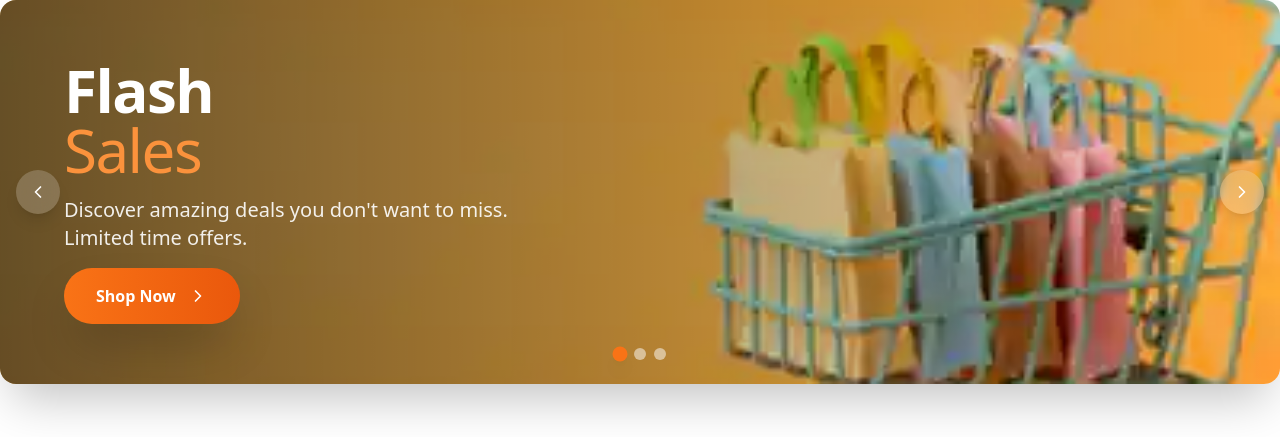
Test: ProductCarousel › navigates to specific image when dot is clicked
Note: click on the third dot
What coordinates should you click on to do the following:
click the button named "Go to slide 3"
I would click on:
 (660, 354)
Its box is [654,348,666,360].
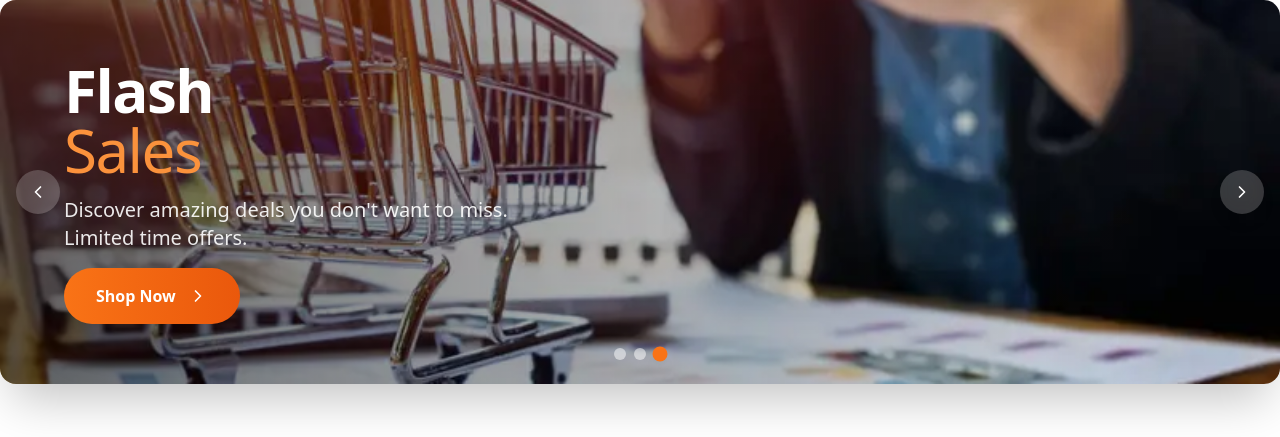
Expected: the picture with alt text "Flash sale product 3" is shown
